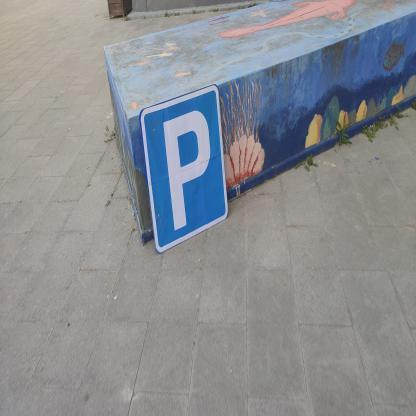parking: (136, 80, 230, 258)
